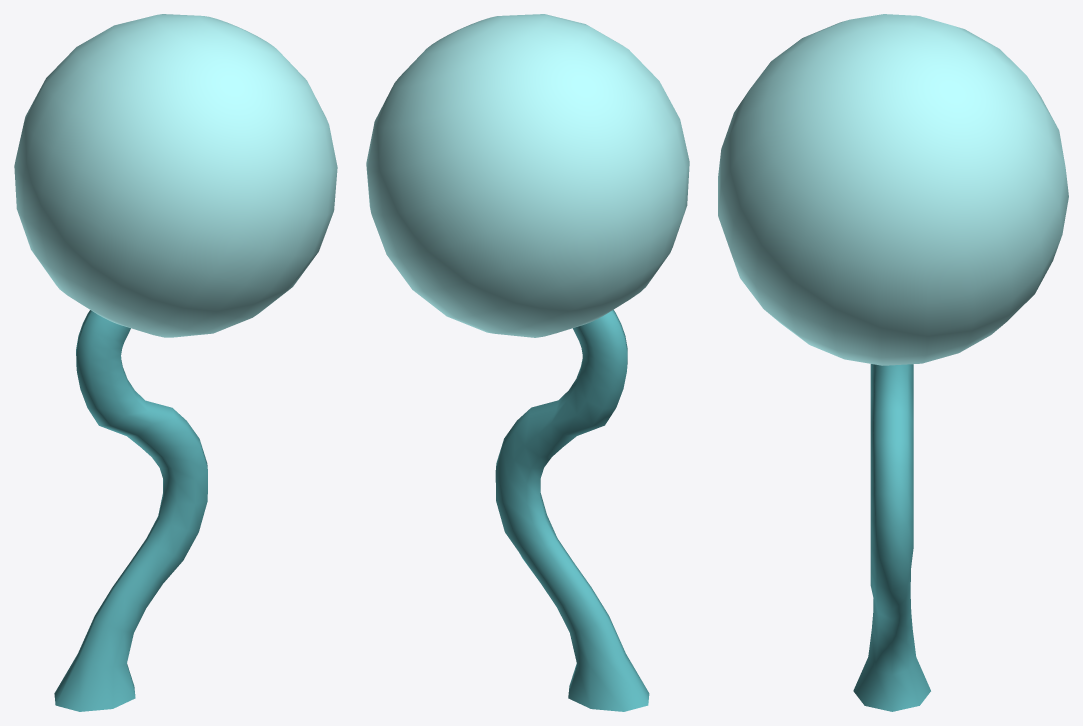
Rendered from Seta fruto esfera.FBX.
3 views of the same model, side by side, from view 1: azimuth 30°, elevation 25°; view 2: azimuth 150°, elevation 25°; view 3: azimuth 270°, elevation 25° (orthographic). The views are drawn at different scales.
Visible parts, largest first — view 1: Sphere004, Line002; view 2: Sphere004, Line002; view 3: Sphere004, Line002.
Part boxes in pixels (box(x1,y1,x2,y2)): Sphere004: box(14, 14, 337, 337); Line002: box(54, 310, 207, 711); Sphere004: box(366, 14, 689, 337); Line002: box(495, 310, 649, 711); Sphere004: box(718, 14, 1068, 365); Line002: box(853, 364, 930, 711).
Bounding box in the file's own units: 8.25 × 18.24 × 8.24.
